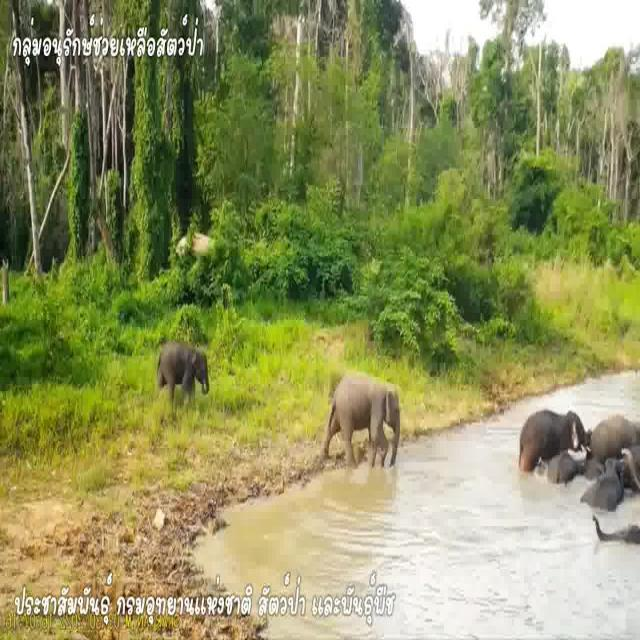Elephant: (330, 368, 398, 460), (524, 404, 587, 470), (591, 434, 635, 514), (159, 337, 210, 402)
